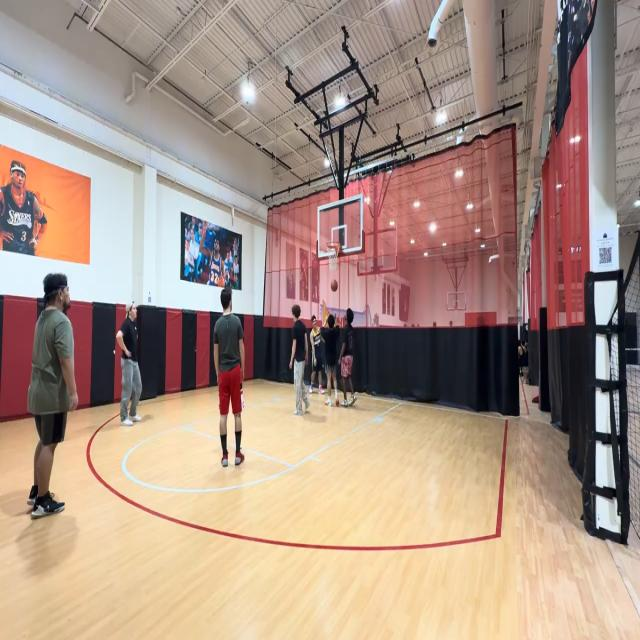Basketball: (330, 278, 338, 292)
Basketball Rim: (326, 241, 340, 271)
Player: (27, 271, 79, 521), (213, 287, 244, 469), (116, 300, 142, 427), (288, 304, 310, 412), (337, 308, 359, 408), (321, 316, 340, 411), (308, 316, 324, 394)
